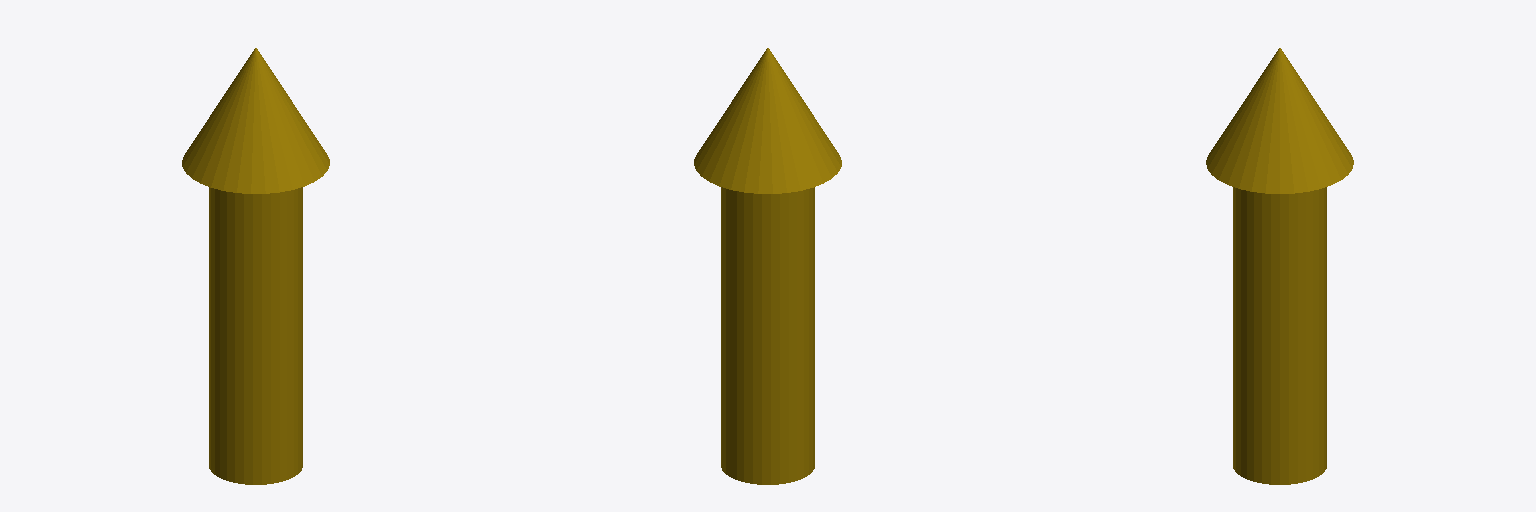
The model's file is trident_piece.obj.
3 renders of one model, left to right at view 1: azimuth 30°, elevation 25°; view 2: azimuth 150°, elevation 25°; view 3: azimuth 270°, elevation 25°, orthographic.
Parts seen in each view (by area): view 1: Cylinder; view 2: Cylinder; view 3: Cylinder.
Part boxes in pixels (x1,y1,x2,y2): Cylinder: (182, 48, 329, 484); Cylinder: (694, 48, 841, 484); Cylinder: (1206, 48, 1353, 484).
Size of the model in its own units: 3.13 by 9.74 by 3.13.